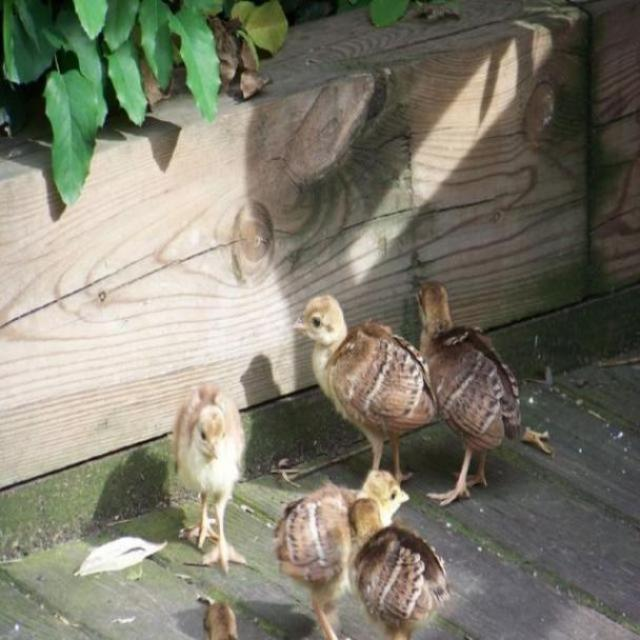Chicken: (294, 291, 447, 488), (175, 376, 246, 556)
